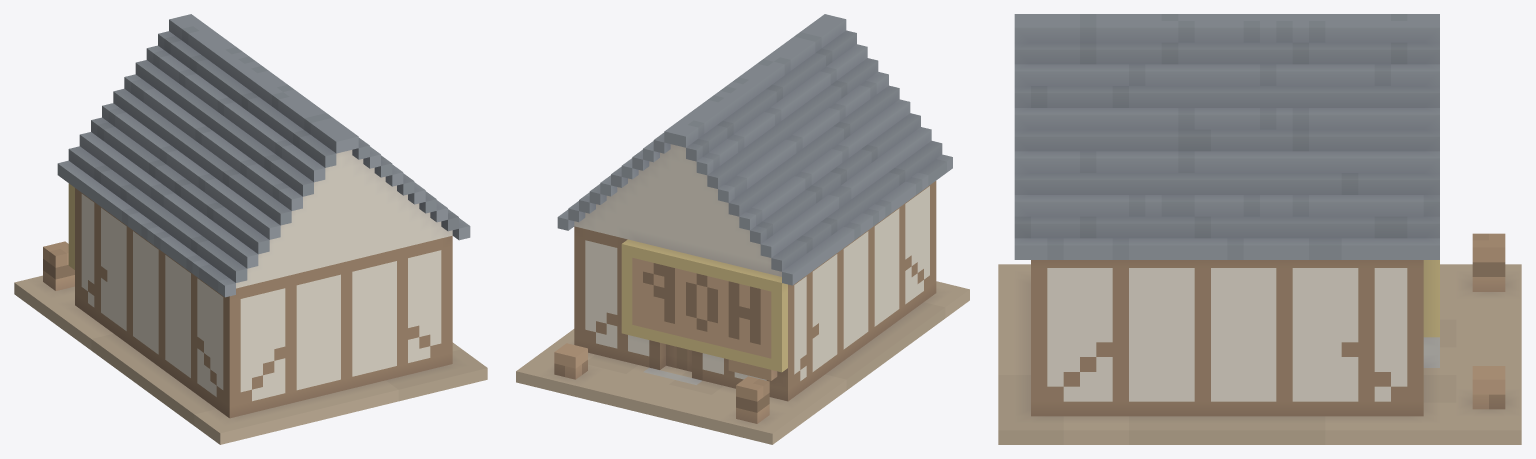
File: hop_farm.glb
3 renders of one model, left to right at view 1: azimuth 30°, elevation 25°; view 2: azimuth 150°, elevation 25°; view 3: azimuth 270°, elevation 25°, orthographic. The views are drawn at different scales.
Parts seen in each view (by area): view 1: hop_farm; view 2: hop_farm; view 3: hop_farm.
Part boxes in pixels (bbox=[...]): hop_farm: bbox=[14, 14, 487, 444]; hop_farm: bbox=[516, 14, 969, 444]; hop_farm: bbox=[998, 14, 1521, 444].
Bounding box in the file's own units: 3 × 2.88 × 4.
